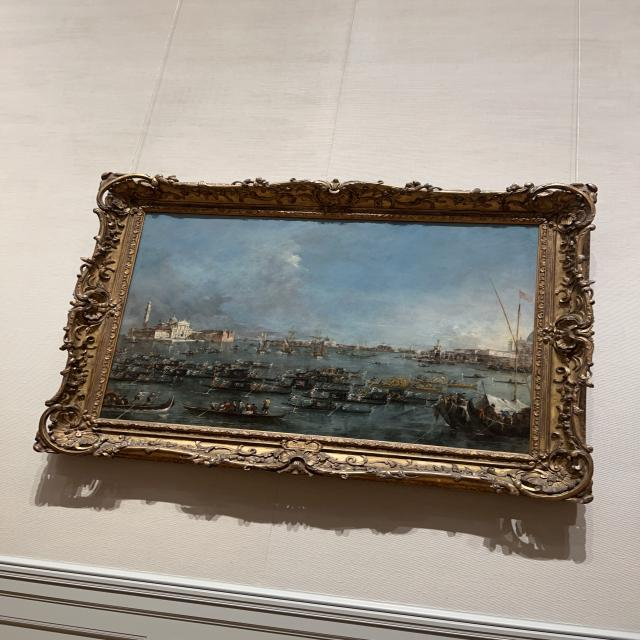ships: (108, 222, 533, 445)
